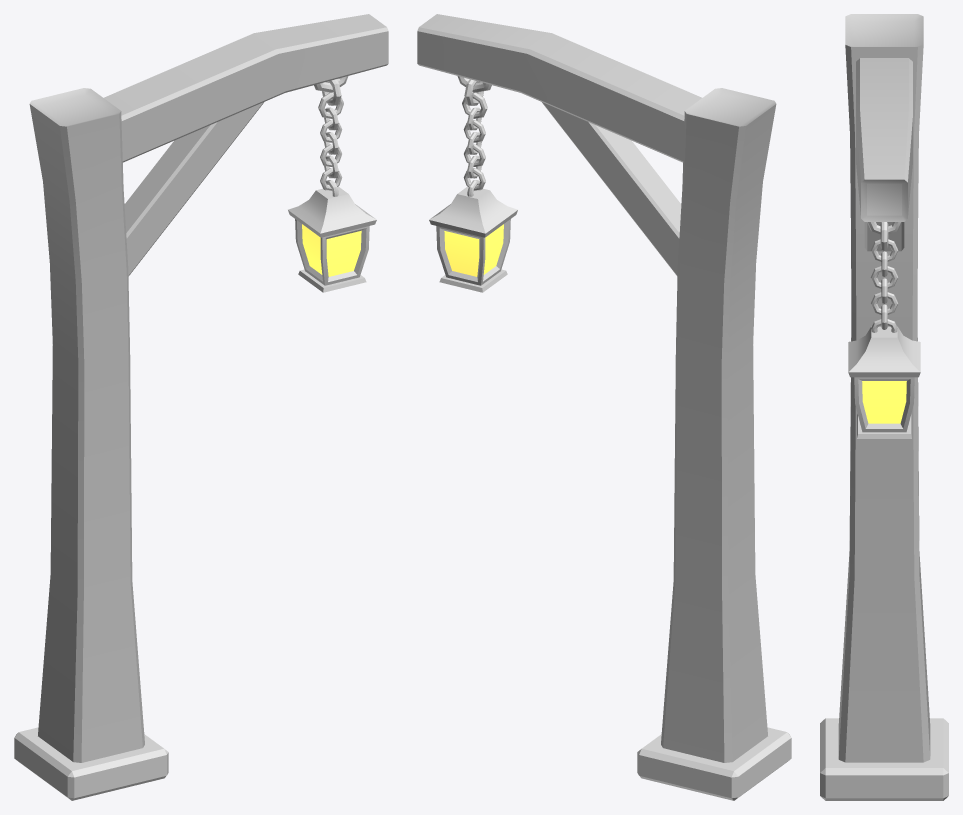
Rendered from Big-Lamp.fbx.
3 views of the same model, side by side, from view 1: azimuth 30°, elevation 25°; view 2: azimuth 150°, elevation 25°; view 3: azimuth 270°, elevation 25° (orthographic). The views are drawn at different scales.
Parts seen in each view (by area): view 1: Wooden_Street_Lamp; view 2: Wooden_Street_Lamp; view 3: Wooden_Street_Lamp.
Boxes of the visible parts, x1,y1,x2,y2 form: Wooden_Street_Lamp: (14, 14, 388, 800); Wooden_Street_Lamp: (417, 14, 791, 800); Wooden_Street_Lamp: (820, 14, 948, 800).
Bounding box in the file's own units: 182 × 354 × 54.46.
